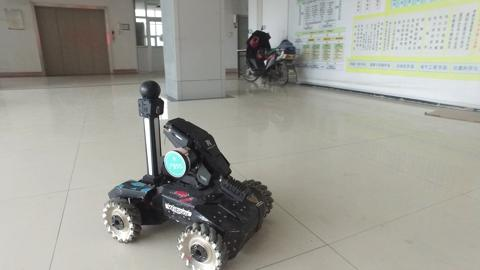chariot: (78, 78, 283, 270)
